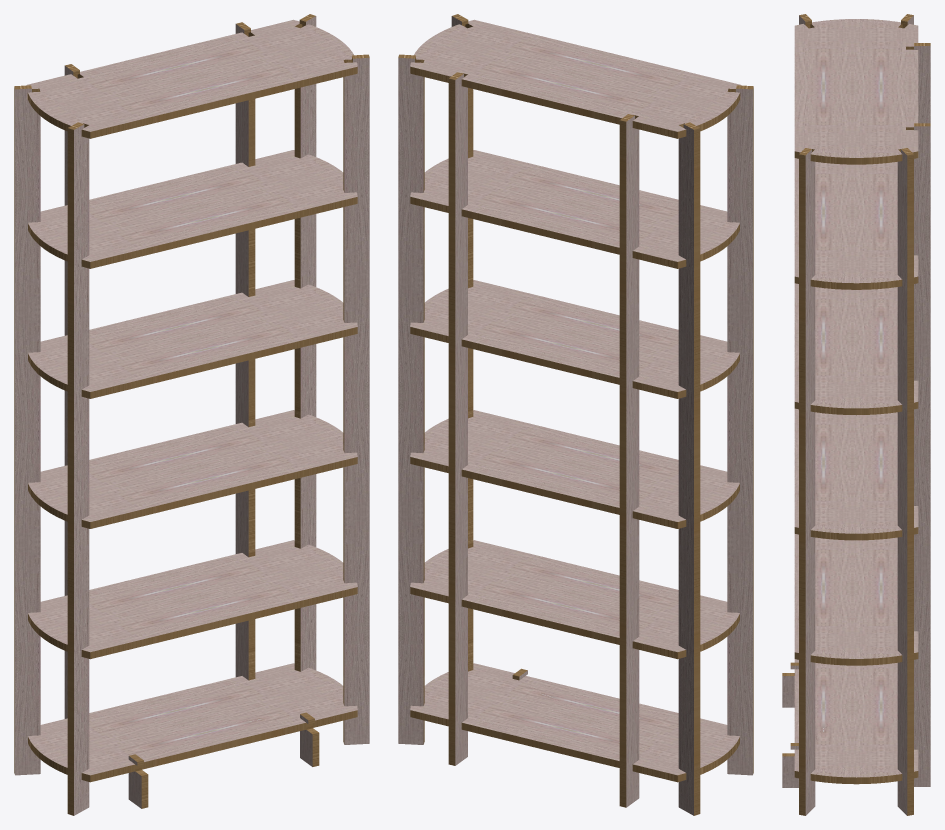
Rendered from NODO_BIBLIOTECA_PARAISO_V1.glb.
3 renders of one model, left to right at view 1: azimuth 30°, elevation 25°; view 2: azimuth 150°, elevation 25°; view 3: azimuth 270°, elevation 25°, orthographic. The views are drawn at different scales.
Parts seen in each view (by area): view 1: Estante_6, Estante_2, Estante_5, Estante_3, Estante_4, Estante_1, Lateral_derecho_frente, Lateral_izquierdo_atras, Lateral_izquierdo_frente, Lateral_derecho_atras, Montante_trasero_2, Montante_trasero_1 (+2 smaller); view 2: Estante_6, Lateral_derecho_atras, Lateral_izquierdo_frente, Estante_2, Estante_3, Estante_5, Estante_4, Estante_1, Lateral_izquierdo_atras, Montante_trasero_1, Montante_trasero_2, Lateral_derecho_frente; view 3: Estante_6, Estante_5, Estante_2, Estante_3, Estante_4, Lateral_derecho_frente, Lateral_derecho_atras, Estante_1, Montante_trasero_2, Montante_trasero_1, Apoyo_frontal_2, Apoyo_frontal_1.
Part boxes in pixels (box(x1,y1,x2,y2)): Estante_6: box(26, 19, 357, 138); Estante_2: box(28, 540, 357, 659); Estante_5: box(28, 150, 357, 268); Estante_3: box(28, 410, 357, 528); Estante_4: box(28, 280, 357, 398); Estante_1: box(28, 663, 357, 782); Lateral_derecho_frente: box(343, 54, 369, 744); Lateral_izquierdo_atras: box(14, 85, 40, 775); Lateral_izquierdo_frente: box(67, 122, 89, 815); Lateral_derecho_atras: box(294, 14, 316, 671); Montante_trasero_2: box(235, 22, 255, 680); Montante_trasero_1: box(64, 64, 79, 718); Estante_6: box(410, 19, 741, 138); Lateral_derecho_atras: box(398, 54, 424, 744); Lateral_izquierdo_frente: box(727, 85, 753, 775); Estante_2: box(410, 540, 739, 659); Estante_3: box(410, 410, 739, 528); Estante_5: box(410, 150, 739, 268); Estante_4: box(410, 280, 739, 398); Estante_1: box(410, 663, 739, 782); Lateral_izquierdo_atras: box(678, 122, 700, 815); Montante_trasero_1: box(619, 114, 639, 807); Montante_trasero_2: box(448, 72, 467, 765); Lateral_derecho_frente: box(451, 14, 473, 671); Estante_6: box(794, 19, 918, 164); Estante_5: box(794, 158, 918, 289); Estante_2: box(794, 534, 918, 665); Estante_3: box(794, 408, 918, 540); Estante_4: box(794, 283, 918, 415); Lateral_derecho_frente: box(799, 148, 815, 815); Lateral_derecho_atras: box(897, 148, 913, 815); Estante_1: box(794, 659, 918, 784); Montante_trasero_2: box(914, 123, 930, 786); Montante_trasero_1: box(914, 43, 930, 123); Apoyo_frontal_2: box(782, 743, 798, 787); Apoyo_frontal_1: box(782, 662, 798, 707).
Bounding box in the file's own units: 0.8138 × 1.77 × 0.36.
2 materials, 2 textured.
